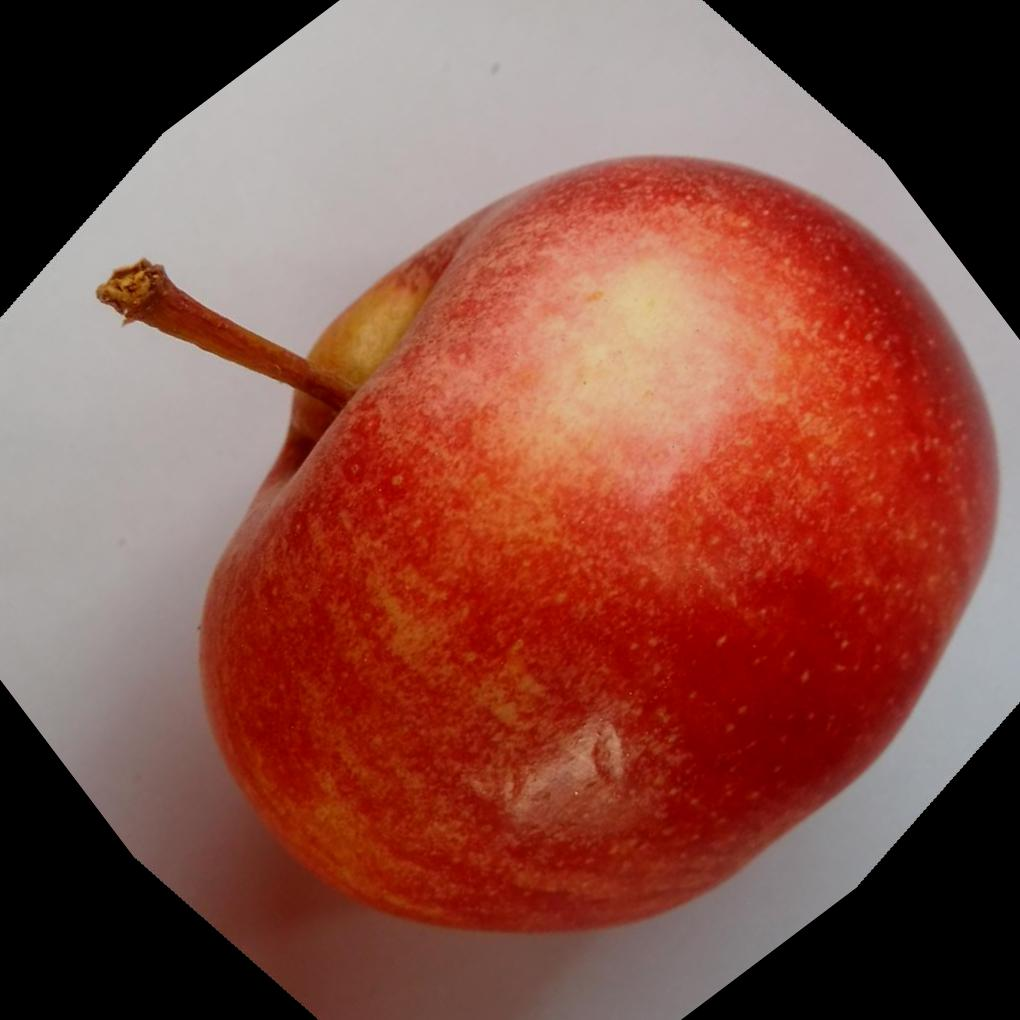FreshGuava: (96, 153, 999, 939)
